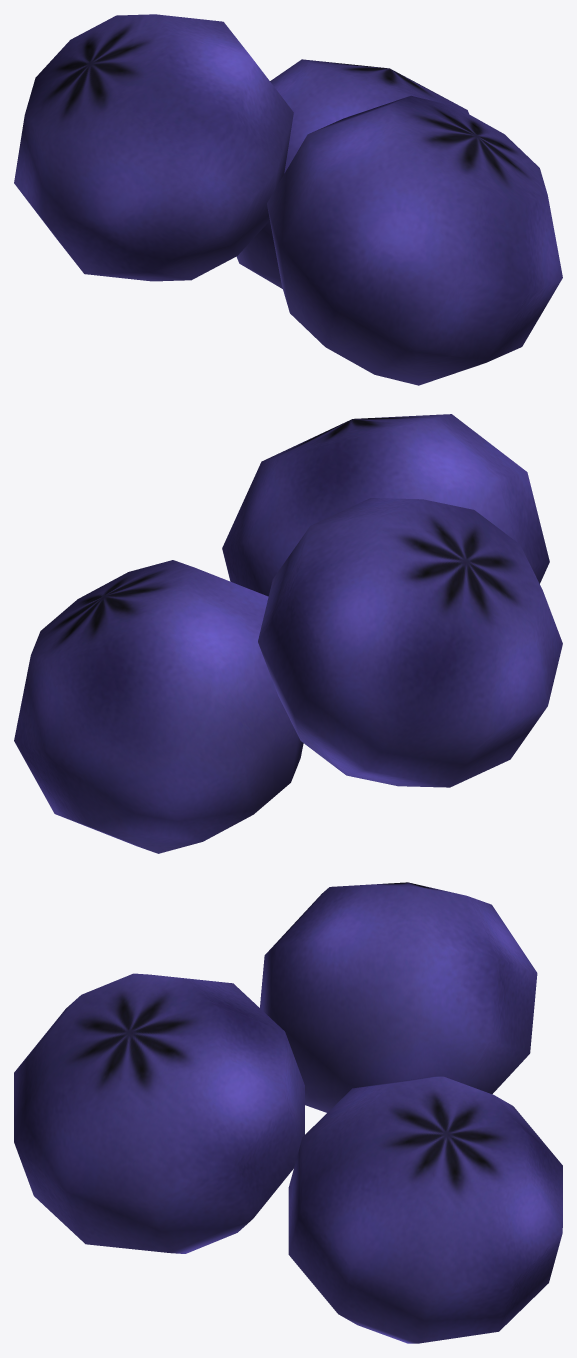
Rendered from blueberry.fbx.
3 renders of one model, top to bottom at view 1: azimuth 30°, elevation 25°; view 2: azimuth 150°, elevation 25°; view 3: azimuth 270°, elevation 25°, orthographic. The views are drawn at different scales.
Visible parts, largest first — view 1: blueberry, blueberry_1, blueberry_2; view 2: blueberry_1, blueberry_2, blueberry; view 3: blueberry, blueberry_2, blueberry_1.
Part boxes in pixels (x1,y1,x2,y2): blueberry: [267, 95, 562, 385]; blueberry_1: [14, 14, 293, 281]; blueberry_2: [236, 59, 468, 288]; blueberry_1: [258, 498, 562, 787]; blueberry_2: [14, 560, 303, 853]; blueberry: [222, 414, 549, 596]; blueberry: [14, 973, 304, 1253]; blueberry_2: [288, 1076, 562, 1343]; blueberry_1: [260, 882, 537, 1112].
Size of the model in its own units: 282 by 203 by 293.
1 material, 1 textured.
